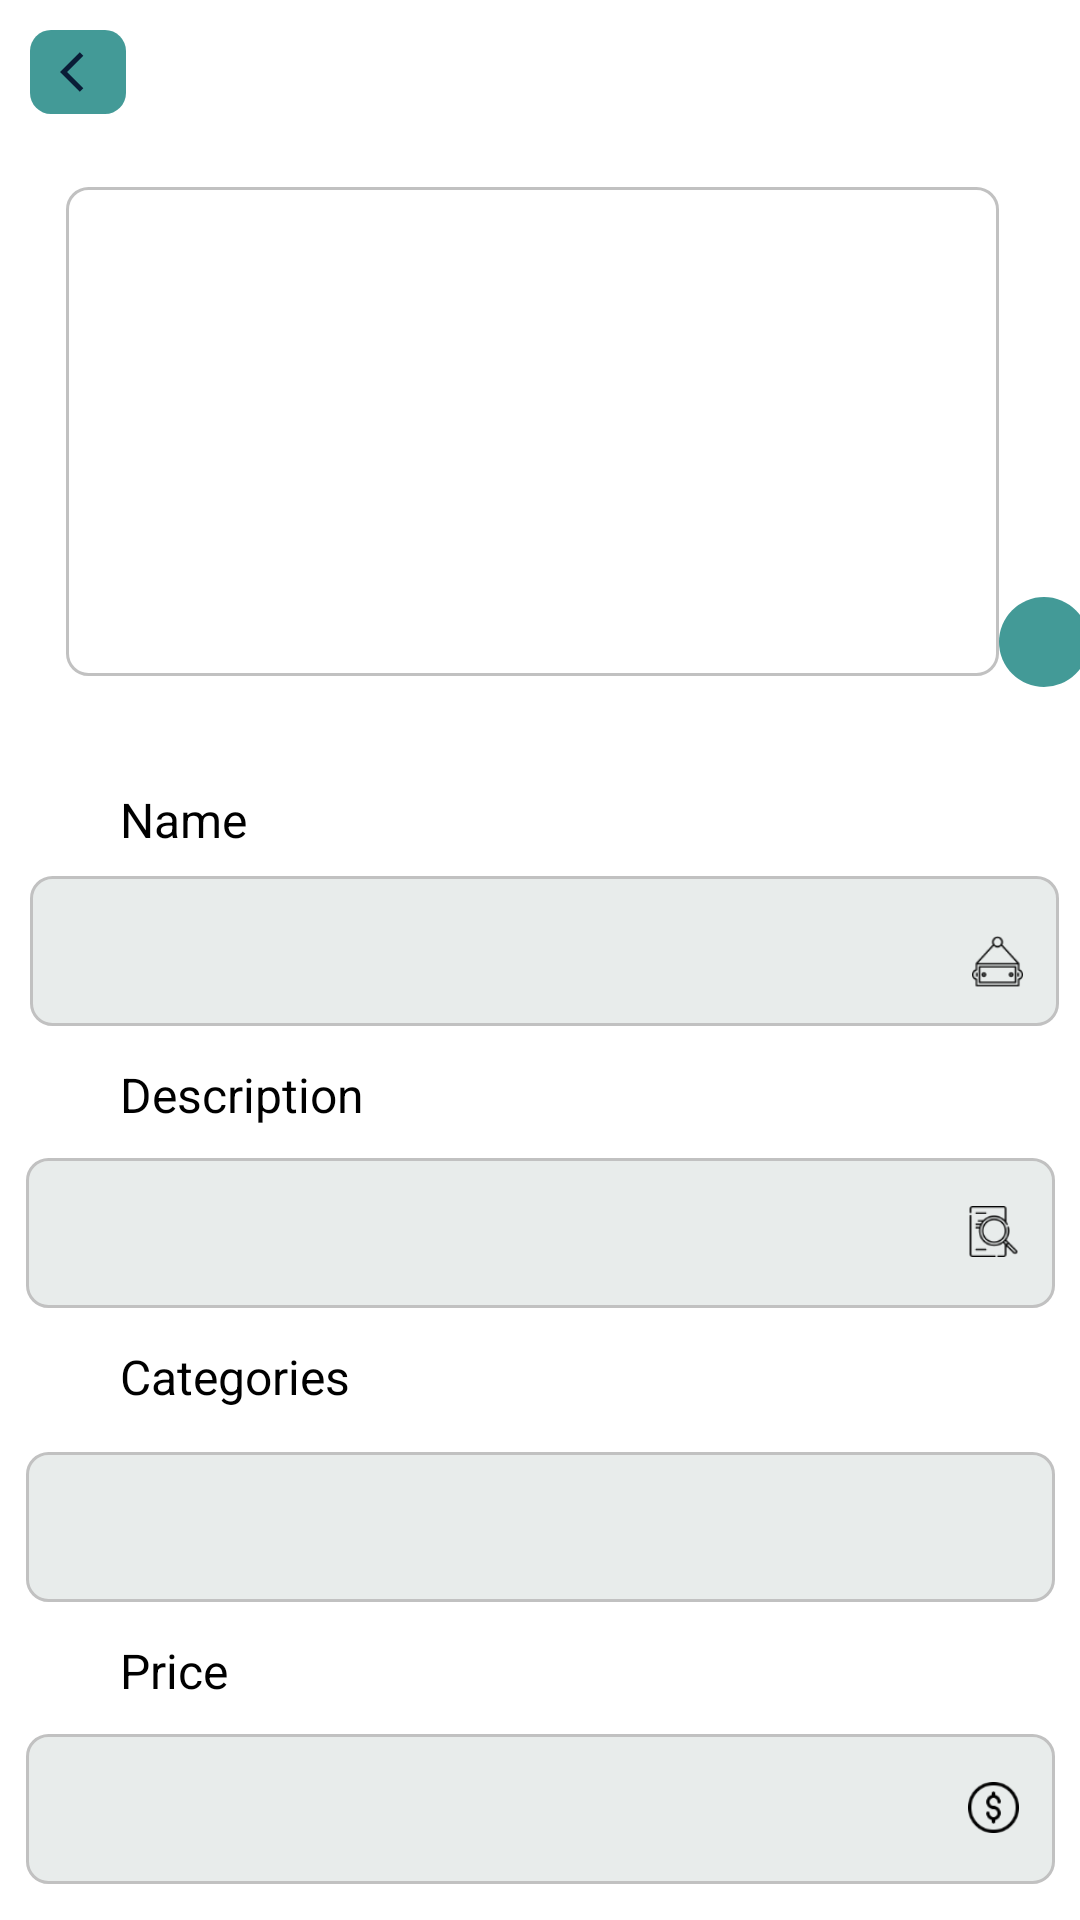

Locate icon controls on the screen. Image size 1080*1920, boxes as (x1, y1, x2, y2).
arrow back: (60, 52, 83, 92)
dollar: (968, 1782, 1019, 1833)
plate: (972, 936, 1023, 987)
seeking: (969, 1206, 1018, 1257)
